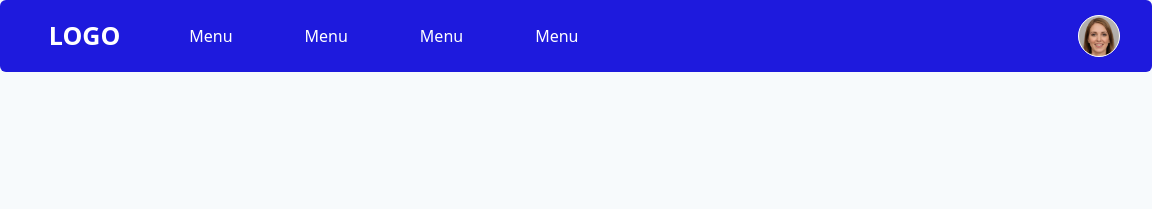
if button is clicked dropdown exist and is visible
Click the button at coordinates (1099, 36), box [1078,15,1120,57]
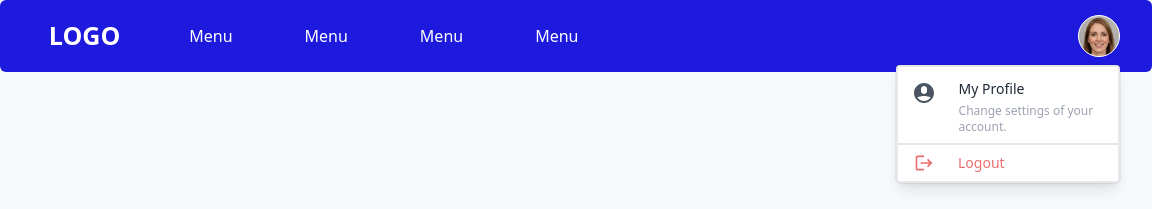
Expected: the menu with id "dropdown" is shown, [896,65,1120,183]
